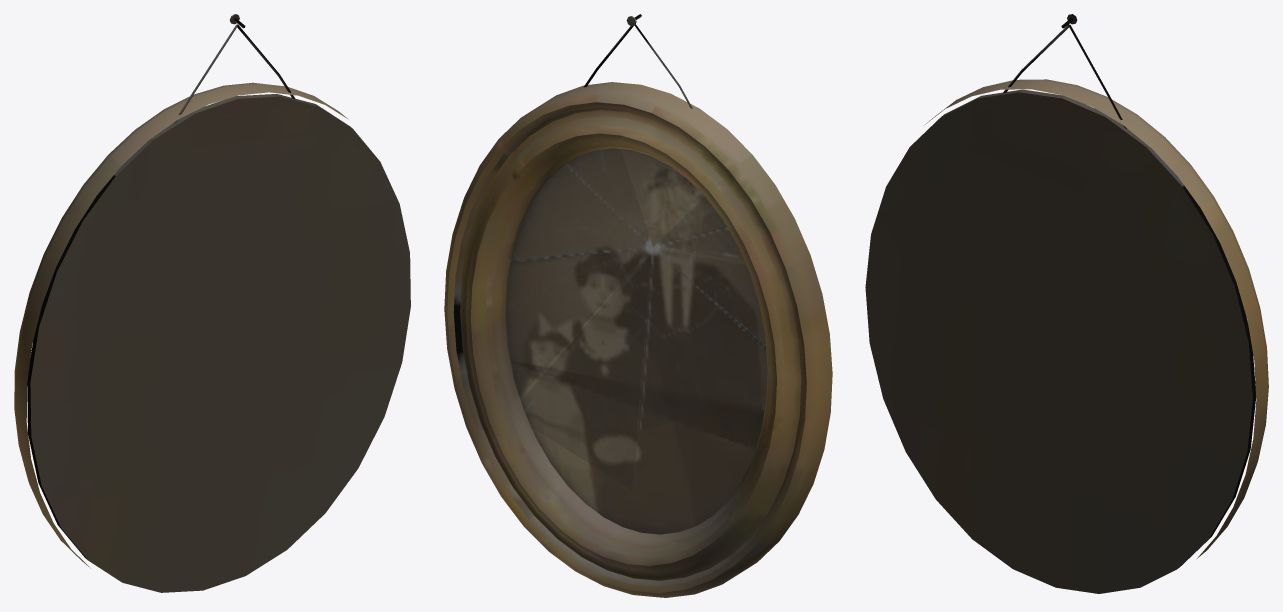
File: dressing_frame_portrait.glb
3 renders of one model, left to right at view 1: azimuth 30°, elevation 25°; view 2: azimuth 150°, elevation 25°; view 3: azimuth 330°, elevation 25°, orthographic. The views are drawn at different scales.
Visible parts, largest first — view 1: dressing_frame_portrait; view 2: dressing_frame_portrait, dressing_frame_portrait_glass; view 3: dressing_frame_portrait.
Part boxes in pixels (left/top/right/bottom): dressing_frame_portrait: left=14, top=14, right=410, bottom=592; dressing_frame_portrait: left=444, top=14, right=832, bottom=597; dressing_frame_portrait_glass: left=505, top=149, right=767, bottom=489; dressing_frame_portrait: left=865, top=14, right=1268, bottom=593.
Bounding box in the file's own units: 0.4096 × 0.5846 × 0.0674.
Materials: 2 (2 with a texture image).
